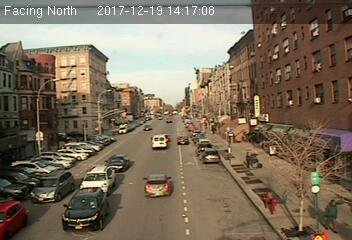car: (62, 188, 109, 232), (30, 173, 75, 203), (79, 166, 116, 193), (142, 173, 172, 198), (105, 153, 130, 172), (201, 148, 220, 163), (176, 135, 190, 145)
truck: (151, 135, 169, 150)
